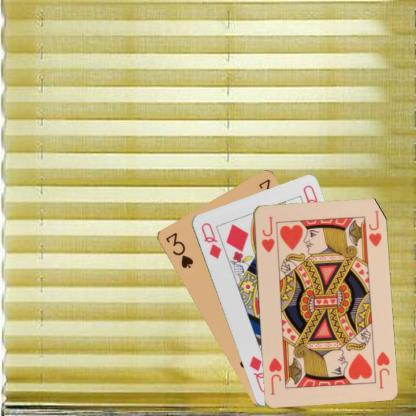3s: (162, 230, 194, 270)
Jh: (258, 213, 276, 253), (374, 348, 390, 390)
Qd: (198, 220, 223, 260)
